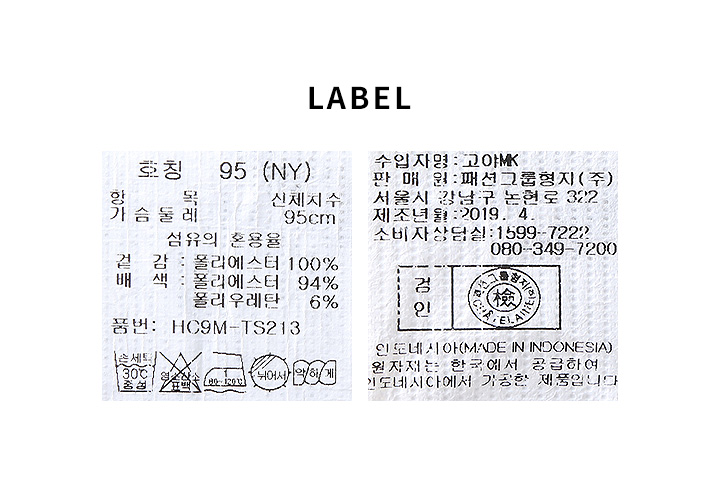KR_flat_dry_in_shade: (249, 351, 292, 395)
KR_gentle_wring: (291, 354, 339, 392)
KR_hand_wash_30_neutral: (111, 347, 157, 395)
KR_iron_low_temp_with_cloth: (204, 350, 248, 396)
KR_no_bleach: (158, 348, 200, 396)
